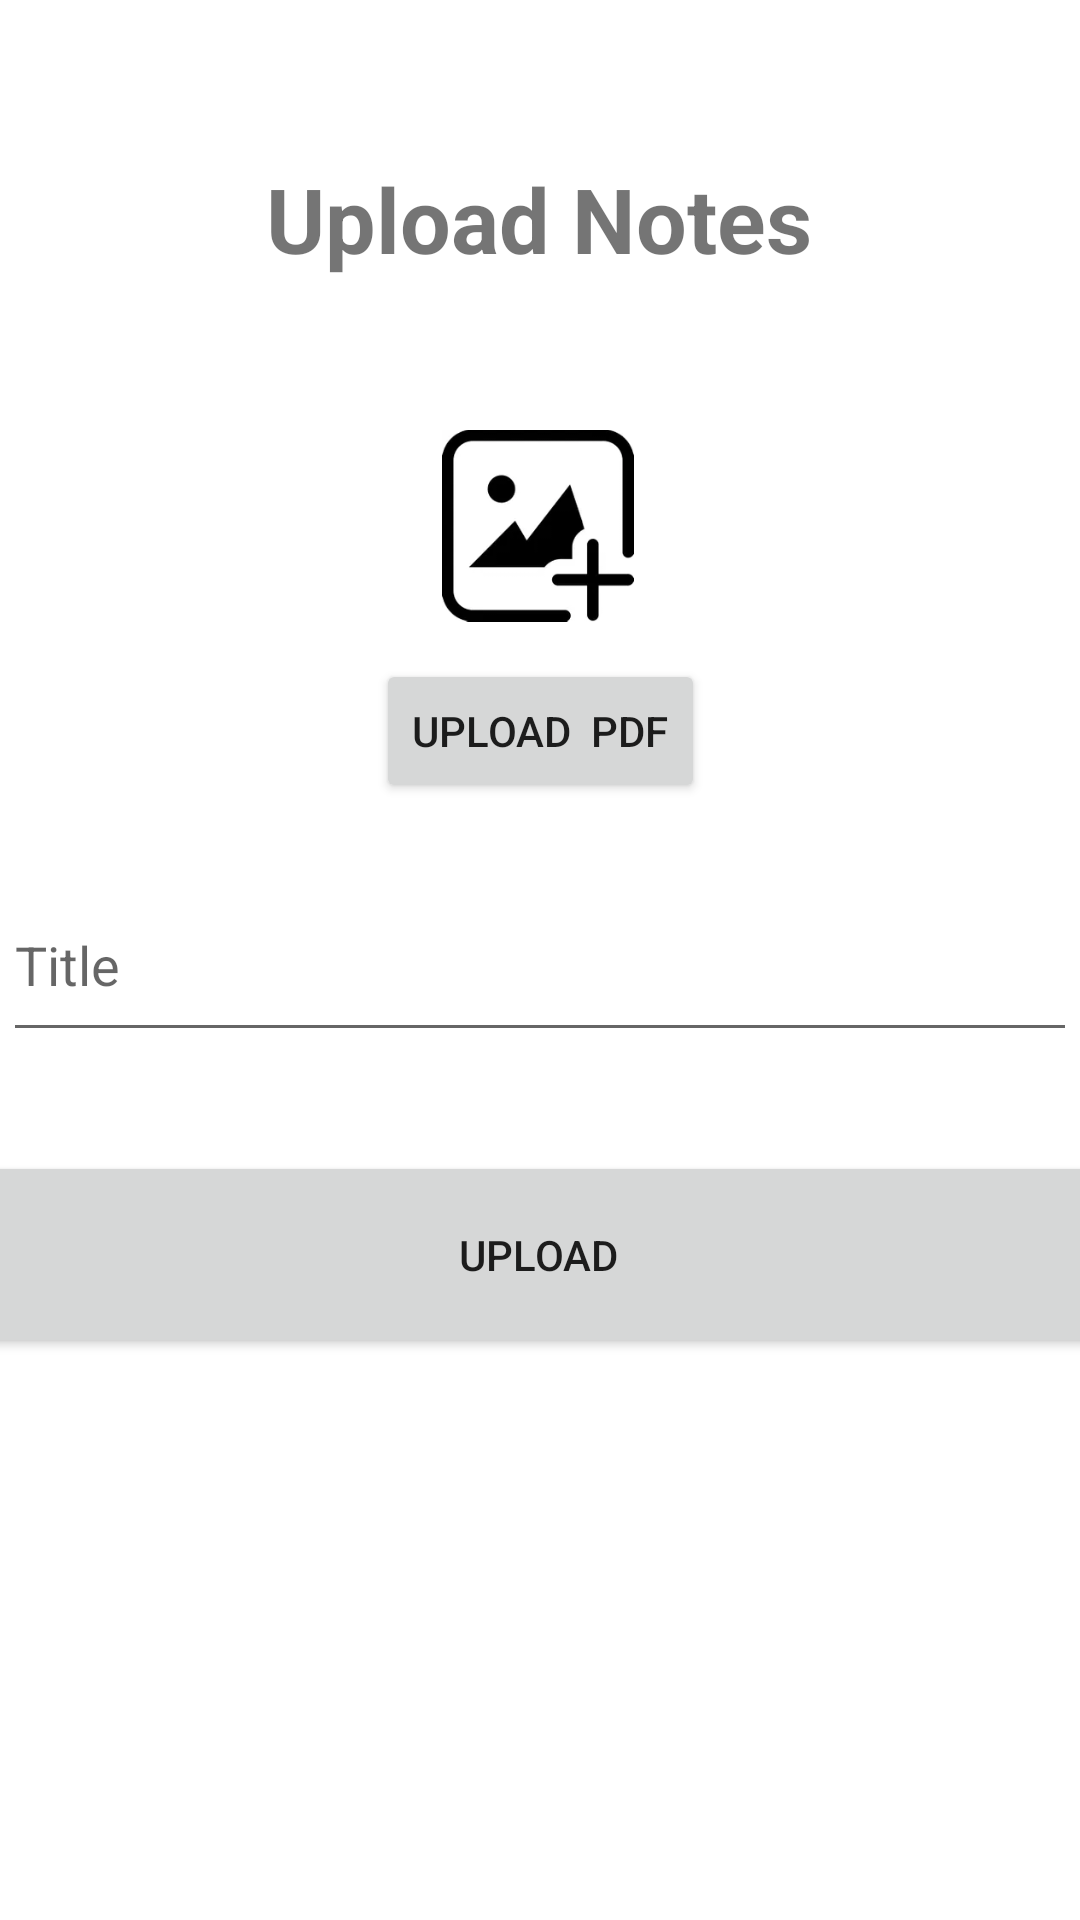

Named icons in this screenshot (1080x1920) and their bounding boxes, (x1, y1, x2, y2):
uploadpic: (442, 430, 634, 622)
